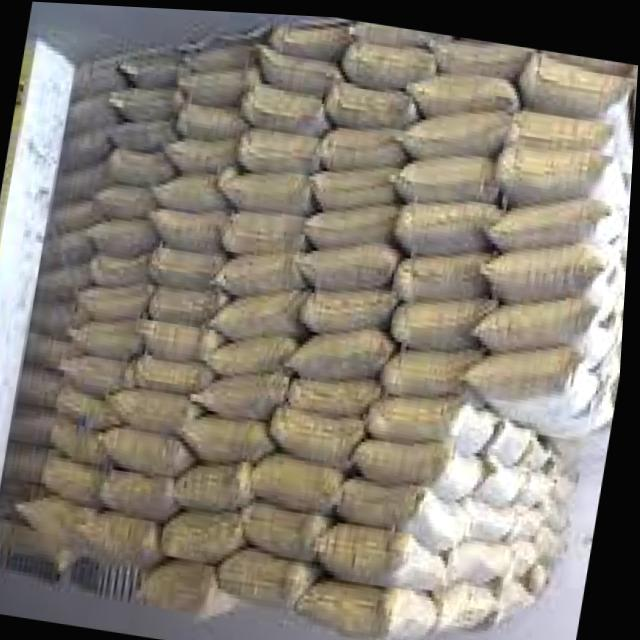cement_bag: (529, 48, 637, 164), (348, 468, 468, 547), (472, 350, 605, 419), (368, 431, 487, 490), (377, 393, 499, 449), (317, 586, 440, 637), (410, 104, 517, 156), (497, 236, 606, 287), (507, 134, 614, 185), (486, 292, 592, 342), (281, 400, 363, 459), (408, 192, 491, 246), (259, 493, 330, 556), (337, 523, 413, 581), (334, 74, 417, 121), (400, 297, 497, 334), (184, 455, 254, 506), (268, 456, 339, 506), (251, 79, 328, 125), (218, 332, 298, 376), (228, 555, 301, 603), (314, 156, 399, 197), (304, 328, 381, 373), (123, 382, 195, 430), (110, 422, 188, 466), (198, 410, 269, 458), (233, 163, 310, 207), (45, 447, 105, 503), (306, 241, 396, 278), (227, 249, 304, 292), (97, 512, 162, 562), (172, 511, 244, 556), (443, 29, 527, 66), (397, 346, 473, 386), (312, 285, 391, 323), (158, 239, 225, 281), (475, 487, 529, 539), (458, 535, 522, 578), (319, 201, 395, 237), (149, 352, 211, 392), (181, 96, 244, 134), (160, 166, 217, 206), (98, 246, 154, 285), (87, 313, 146, 348), (125, 112, 173, 140), (109, 186, 155, 212)
